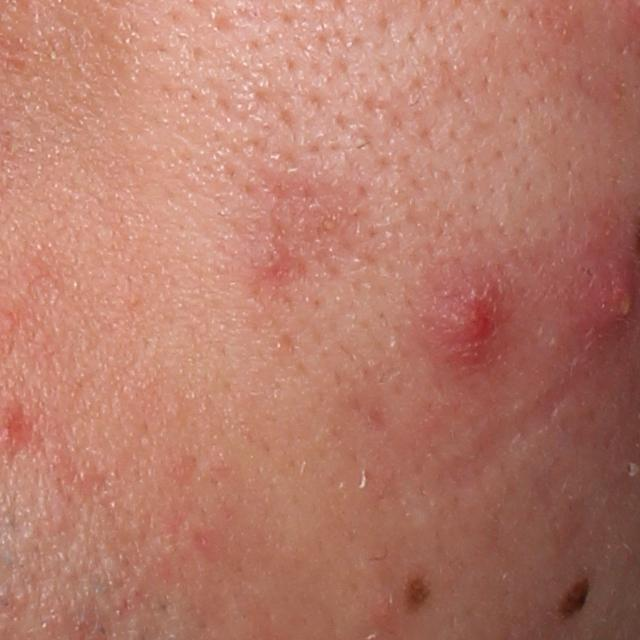nevus: (556, 571, 593, 625), (399, 572, 436, 611)
papule: (419, 254, 528, 370), (250, 239, 291, 274)
